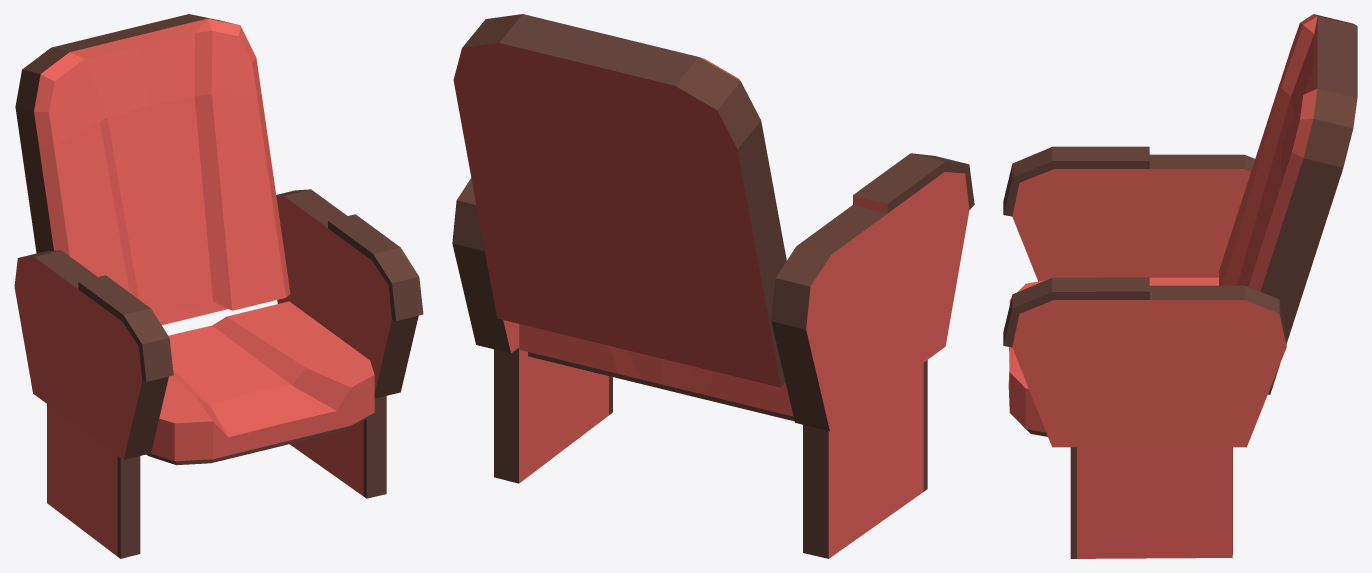
Rendered from Chaircinema.fbx.
3 renders of one model, left to right at view 1: azimuth 30°, elevation 25°; view 2: azimuth 150°, elevation 25°; view 3: azimuth 270°, elevation 25°, orthographic. The views are drawn at different scales.
Visible parts, largest first — view 1: Cube.113; view 2: Cube.113; view 3: Cube.113.
Part boxes in pixels (x1,y1,x2,y2): Cube.113: (14, 14, 423, 558); Cube.113: (452, 14, 974, 558); Cube.113: (1003, 14, 1357, 558).
Size of the model in its own units: 84.96 by 119 by 87.55.
